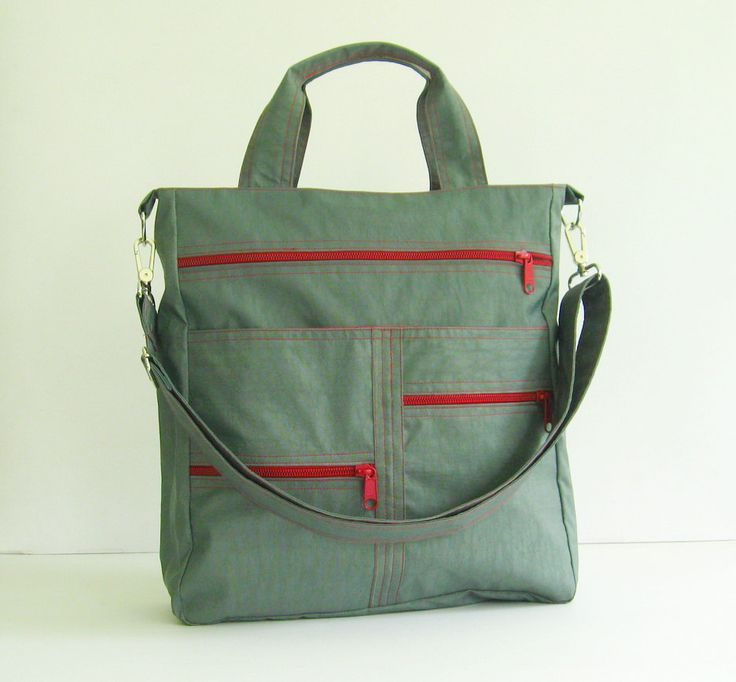nylon: (134, 43, 613, 625)
